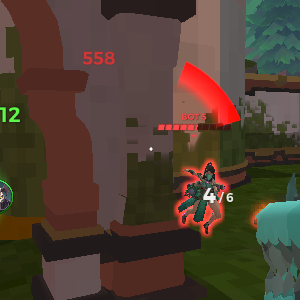model: (188, 158, 218, 231)
